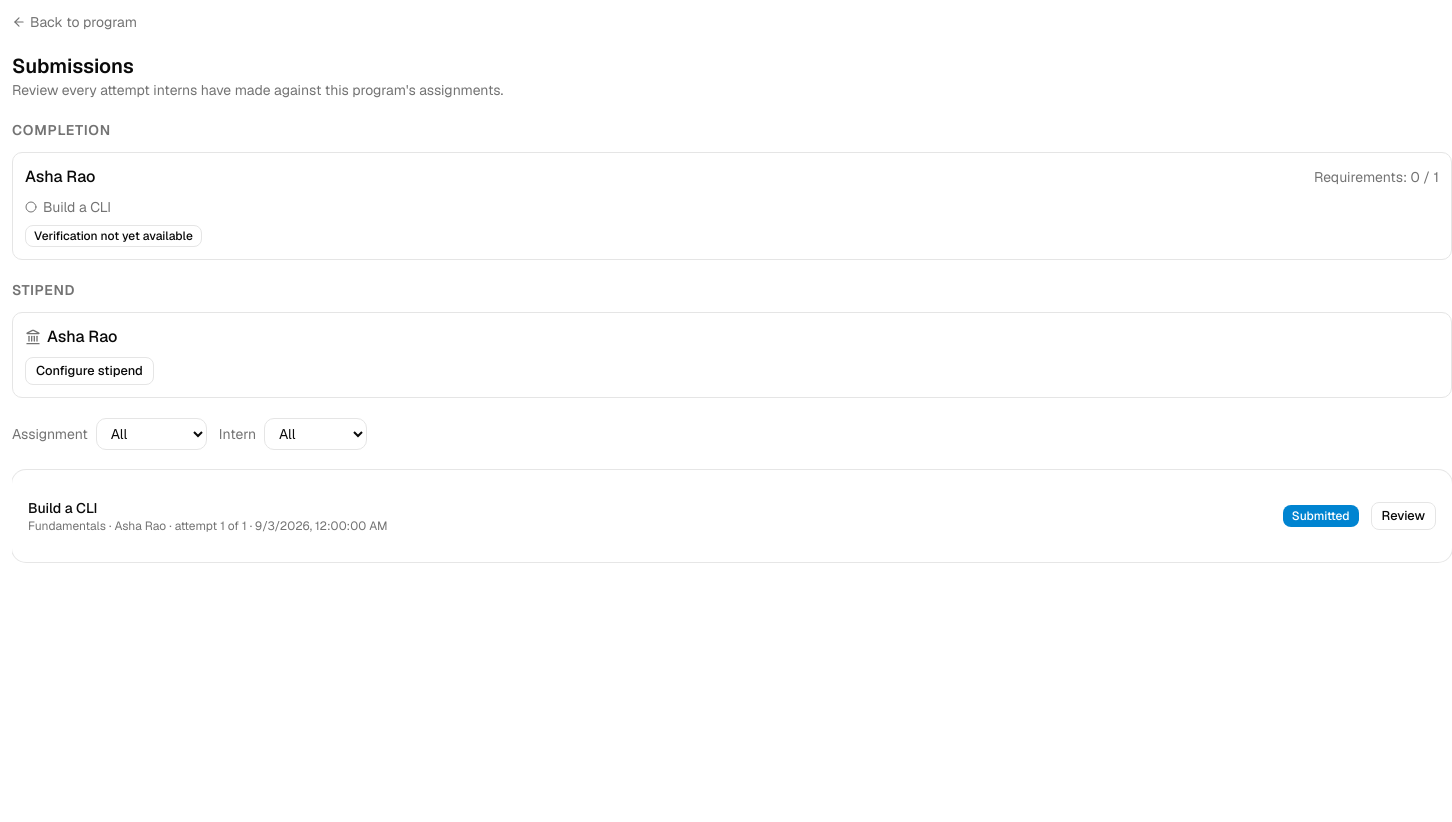
Test: ProgramSubmissionsView › starts a review and refreshes to UNDER_REVIEW
The width and height of the screenshot is (1452, 822).
Click the button "Review".
click(1403, 516)  # box [1371,502,1436,530]
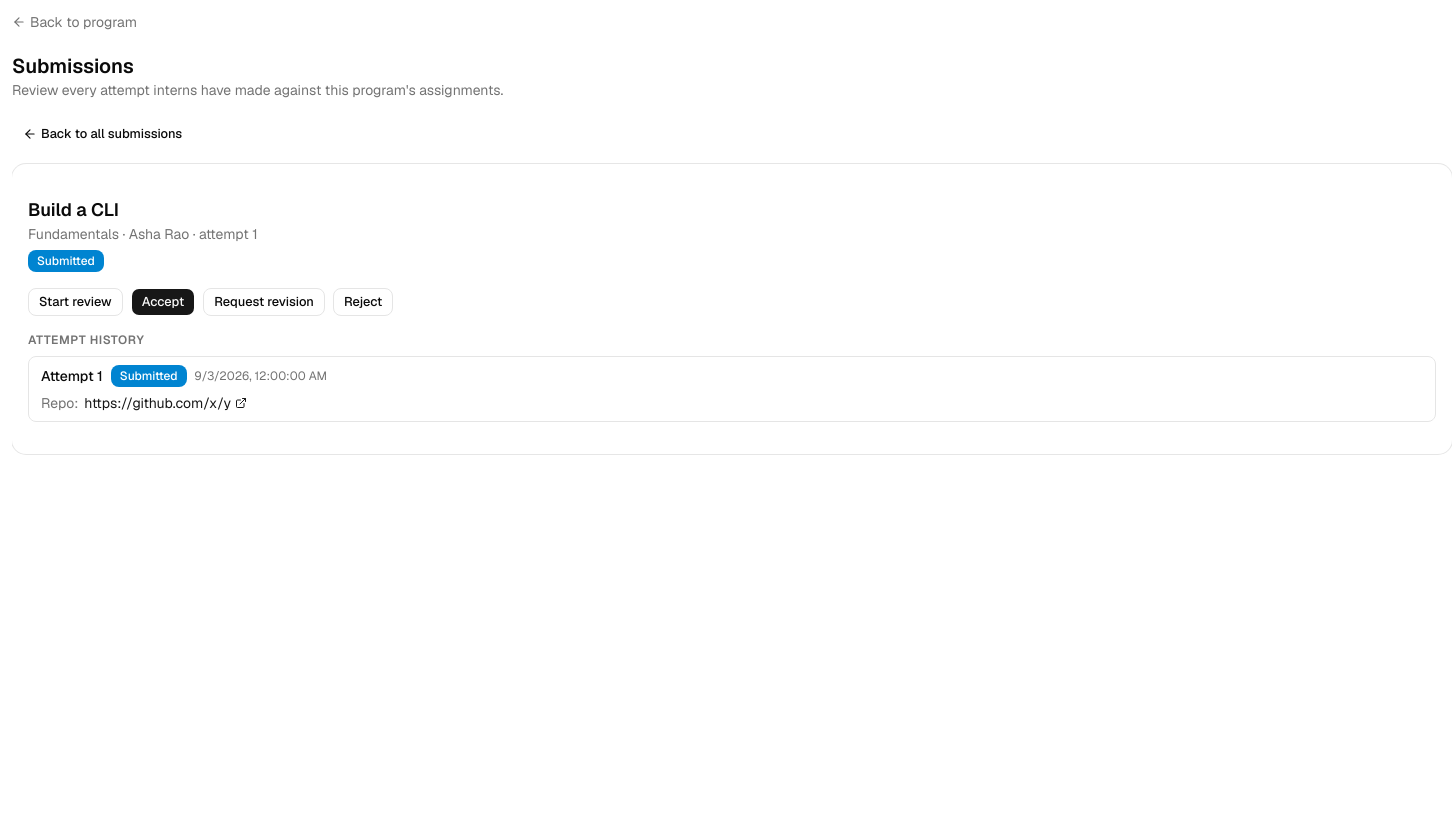
Click the button "Start review".
click(75, 302)  # box [28,288,123,316]
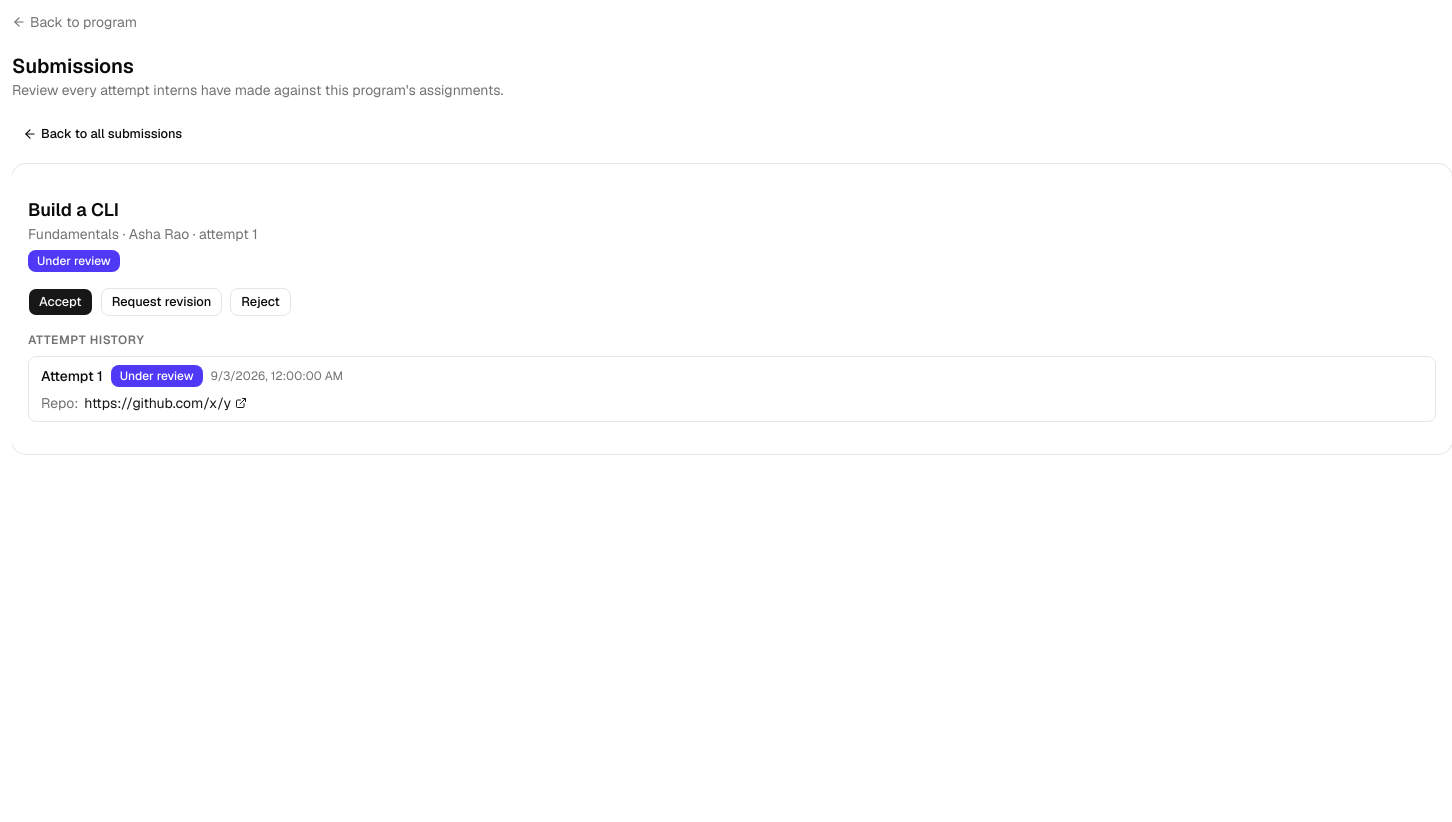
Expected: the button "Accept" is shown, [28,288,93,316]
Expected: the button "Start review" is gone
